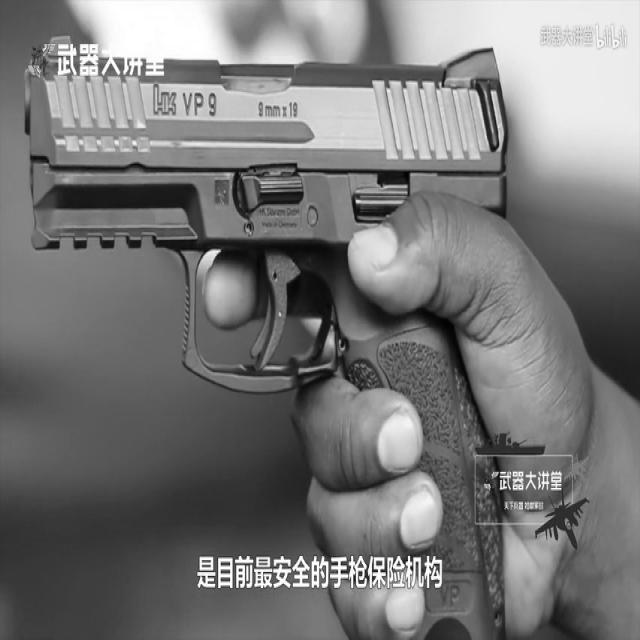Hand-Gun: (0, 1, 568, 640)
